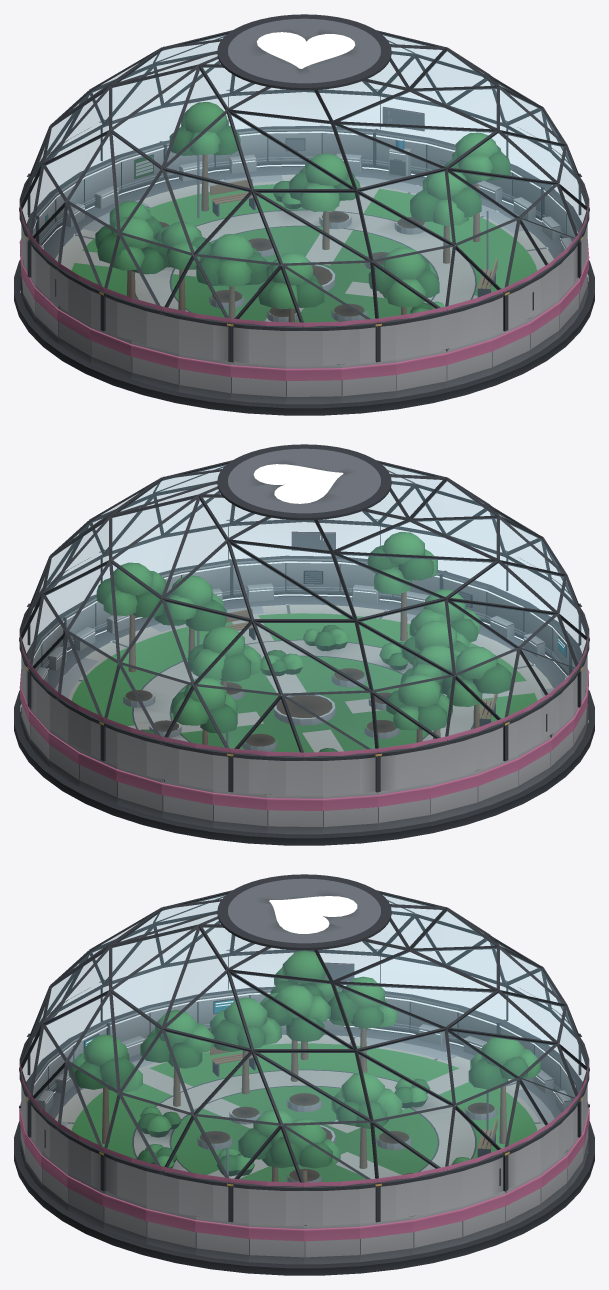
The model's file is park_m_far.glb.
3 views of the same model, one above another, from view 1: azimuth 30°, elevation 25°; view 2: azimuth 150°, elevation 25°; view 3: azimuth 270°, elevation 25° (orthographic).
Visible parts, largest first — view 1: Roof, Base, Interior; view 2: Roof, Interior, Base; view 3: Roof, Interior, Base.
Part boxes in pixels (x1,y1,x2,y2): Roof: [19, 14, 589, 365]; Base: [14, 125, 594, 415]; Interior: [71, 102, 537, 380]; Roof: [19, 444, 589, 795]; Interior: [55, 532, 554, 810]; Base: [14, 555, 594, 845]; Roof: [19, 874, 589, 1225]; Interior: [57, 950, 554, 1241]; Base: [14, 986, 594, 1275].
Size of the model in its own units: 17.76 by 8.16 by 17.76.
